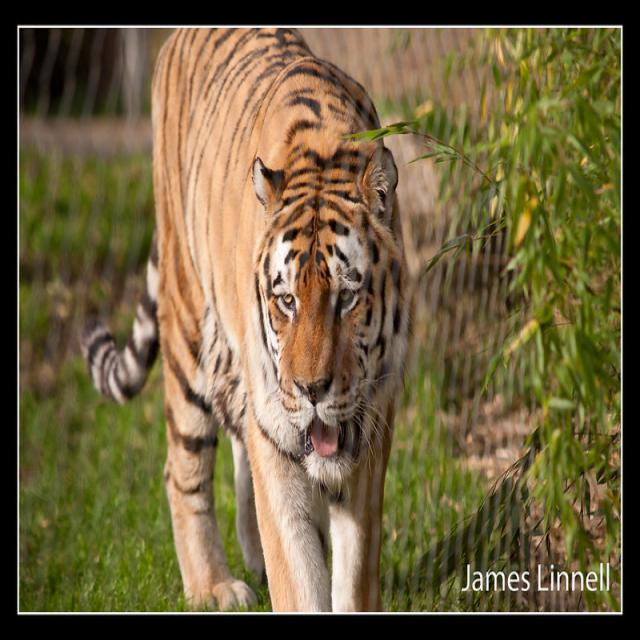Tiger: (88, 28, 410, 610)
